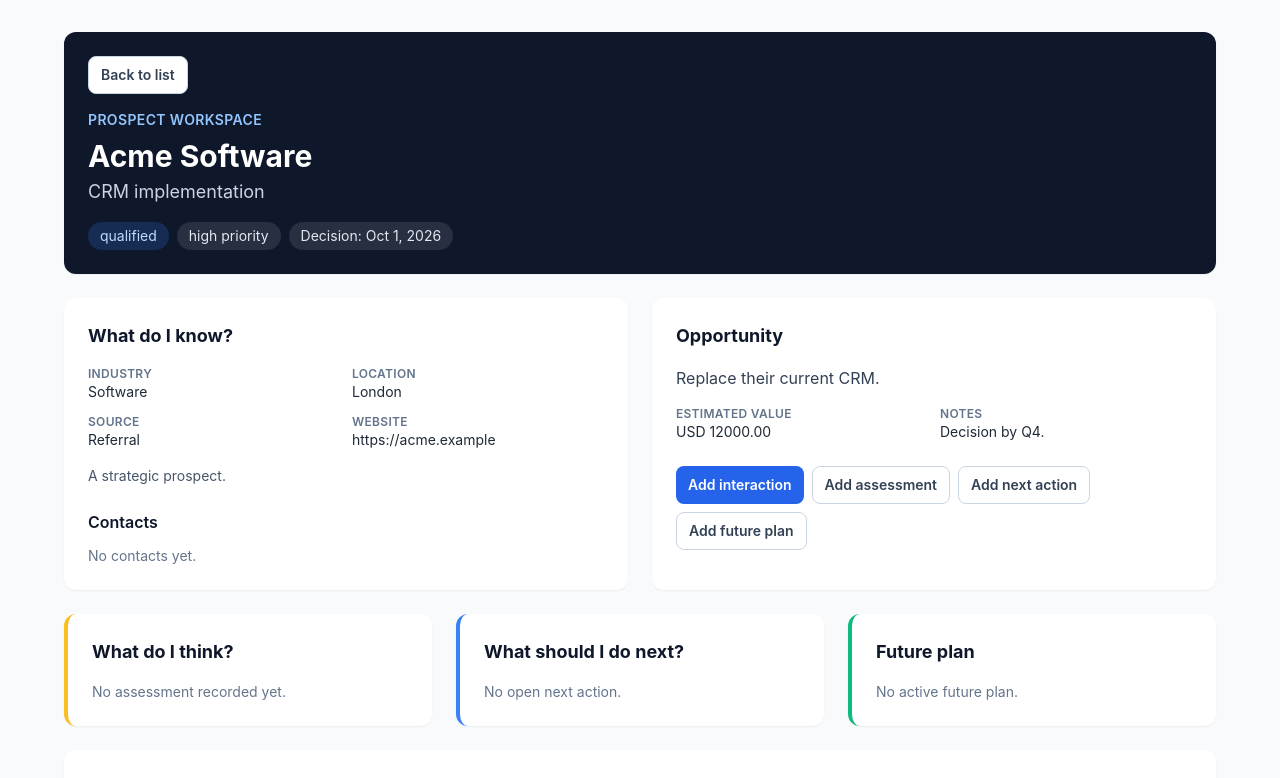
Prospect detail experience › opens an interaction form and posts the new interaction
The image size is (1280, 778).
Expected: the heading "Acme Software" is shown, top-left (88, 138), bottom-right (312, 174)
Click the button "Add interaction" below "USD 12000.00": [740, 485] box top-left (676, 466), bottom-right (804, 504)
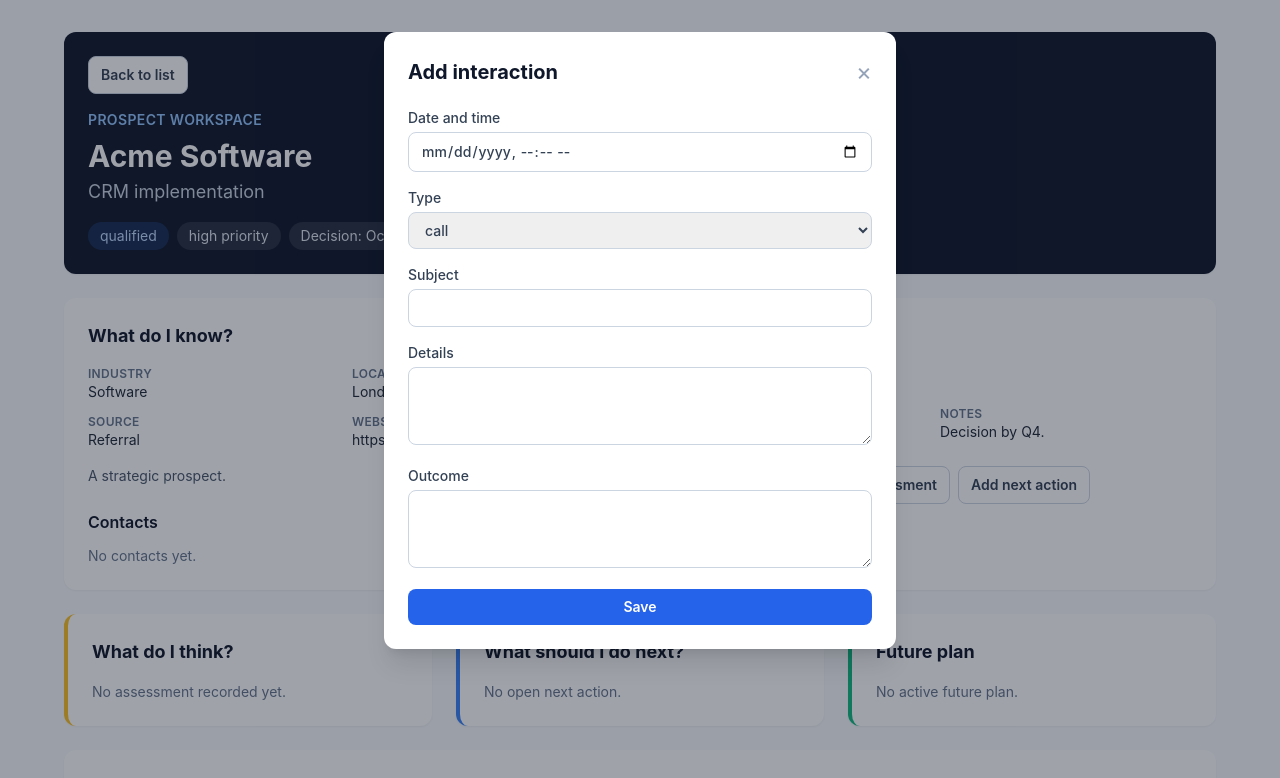
Now the dialog is shown, box top-left (384, 32), bottom-right (896, 649)
Now the text box labelled "Details" is shown, box top-left (408, 367), bottom-right (872, 445)
